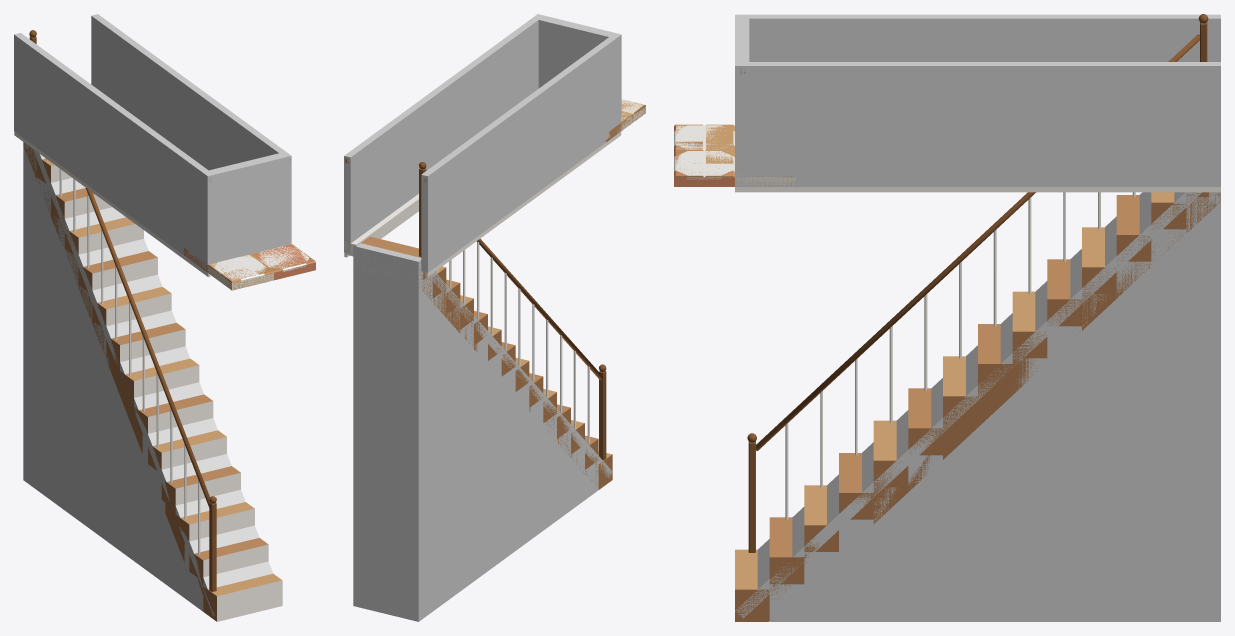
Rendered from casa-andar.glb.
The picture shows the model from 3 angles, left to right: view 1: azimuth 30°, elevation 25°; view 2: azimuth 150°, elevation 25°; view 3: azimuth 270°, elevation 25°; orthographic projection. The views are drawn at different scales.
Visible parts, largest first — view 1: escada-interna, col-guarda-vao-1, col-guarda-vao-2, col-escada-reta-1, col-guarda-andar-1, col-escada-reta-14, col-escada-reta-13, col-escada-reta-12, col-escada-reta-11, col-escada-reta-10, col-escada-reta-9, col-guarda-vao-3 (+11 smaller); view 2: col-escada-reta-14, col-guarda-vao-1, col-guarda-vao-2, escada-interna, col-escada-reta-13, col-escada-reta-12, col-escada-reta-11, col-escada-reta-10, col-escada-reta-9, col-escada-reta-8, col-guarda-andar-1, col-escada-reta-7 (+10 smaller); view 3: col-guarda-vao-2, escada-interna, col-guarda-vao-1, col-escada-reta-14, col-escada-reta-13, col-escada-reta-12, col-escada-reta-1, col-escada-reta-11, col-escada-reta-10, col-escada-reta-9, col-escada-reta-8, col-escada-reta-7 (+10 smaller).
Part boxes in pixels (x1,y1,x2,y2): escada-interna: (23,30,282,621); col-guarda-vao-1: (14,33,214,270); col-guarda-vao-2: (91,14,291,244); col-escada-reta-1: (33,149,273,616); col-guarda-andar-1: (202,153,291,263); col-escada-reta-14: (23,142,36,489); col-escada-reta-13: (37,177,50,499); col-escada-reta-12: (51,217,64,509); col-escada-reta-11: (64,249,78,520); col-escada-reta-10: (78,285,92,530); col-escada-reta-9: (92,322,106,540); col-guarda-vao-3: (204,154,291,271); col-escada-reta-14: (353,267,432,621); col-guarda-vao-1: (421,34,621,272); col-guarda-vao-2: (344,14,543,253); escada-interna: (353,162,612,489); col-escada-reta-13: (432,290,446,611); col-escada-reta-12: (446,306,460,601); col-escada-reta-11: (460,320,473,591); col-escada-reta-10: (474,335,487,580); col-escada-reta-9: (488,351,501,570); col-escada-reta-8: (501,367,515,560); col-guarda-andar-1: (538,18,621,122); col-escada-reta-7: (515,382,529,550); col-guarda-vao-2: (735,62,1220,186); escada-interna: (735,14,1220,621); col-guarda-vao-1: (735,14,1220,61); col-escada-reta-14: (1186,197,1220,621); col-escada-reta-13: (1151,229,1186,621); col-escada-reta-12: (1116,261,1151,621); col-escada-reta-1: (735,192,1201,618); col-escada-reta-11: (1082,294,1116,621); col-escada-reta-10: (1047,326,1081,621); col-escada-reta-9: (1012,358,1047,621); col-escada-reta-8: (978,396,1012,621); col-escada-reta-7: (943,428,977,621).
Size of the model in its own units: 1 by 5.17 by 4.5.
